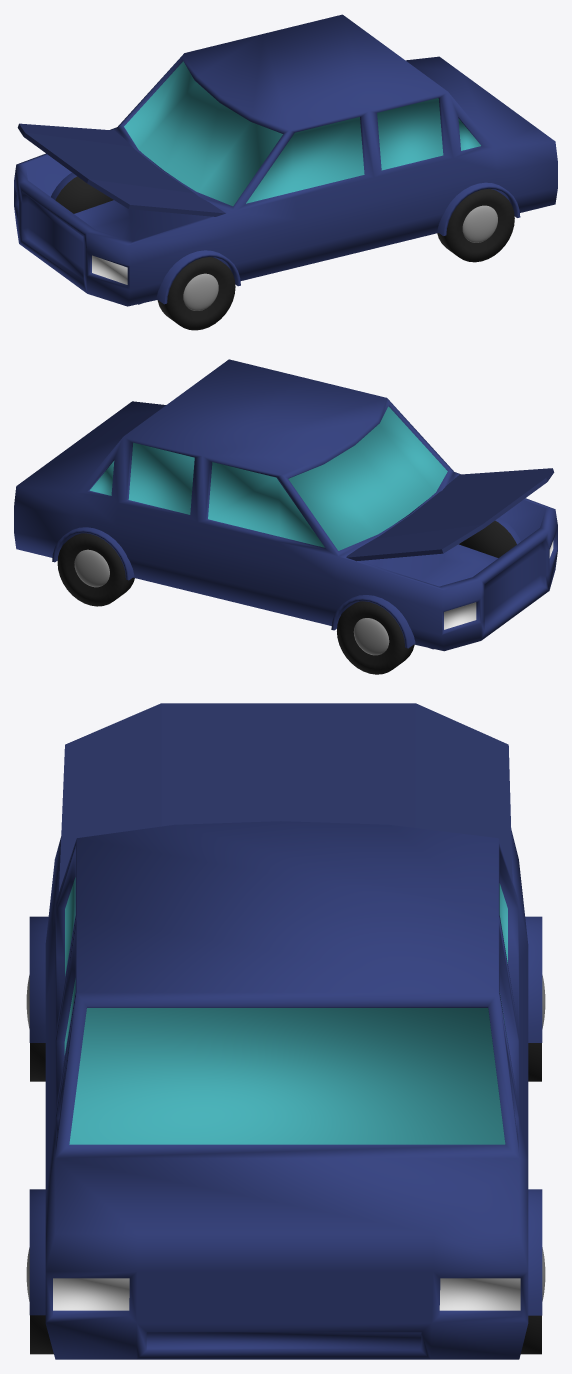
File: voiture.fbx
The picture shows the model from 3 angles, top to bottom: view 1: azimuth 30°, elevation 25°; view 2: azimuth 150°, elevation 25°; view 3: azimuth 270°, elevation 25°; orthographic projection. The views are drawn at different scales.
Visible parts, largest first — view 1: 01 Voiture 01; view 2: 01 Voiture 01; view 3: 01 Voiture 01.
Boxes of the visible parts, x1,y1,x2,y2 form: 01 Voiture 01: [14, 14, 557, 330]; 01 Voiture 01: [14, 359, 557, 674]; 01 Voiture 01: [26, 703, 545, 1359].
Bounding box in the file's own units: 47.13 × 16.94 × 23.92.
